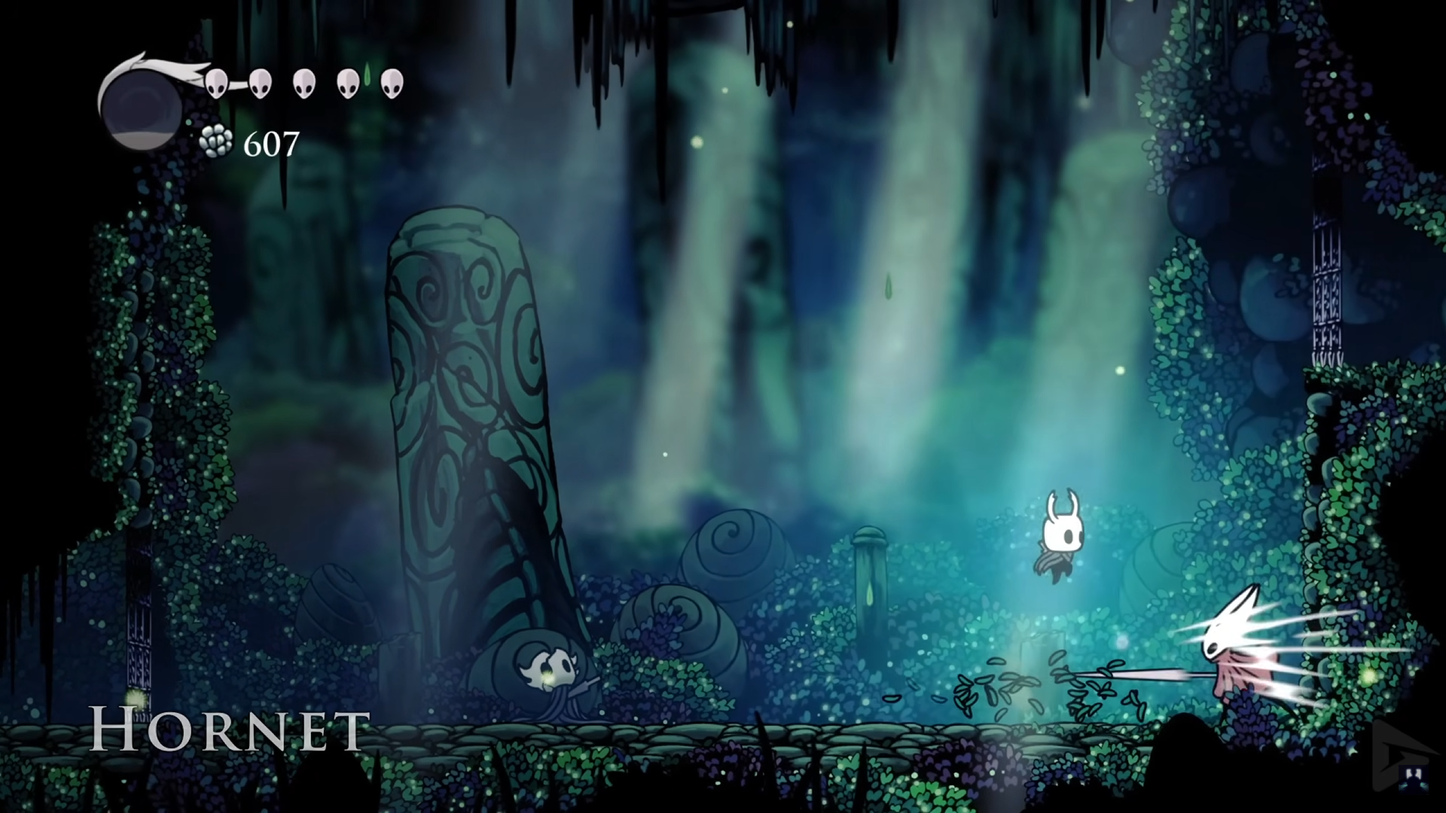HK: (1029, 486, 1087, 596)
